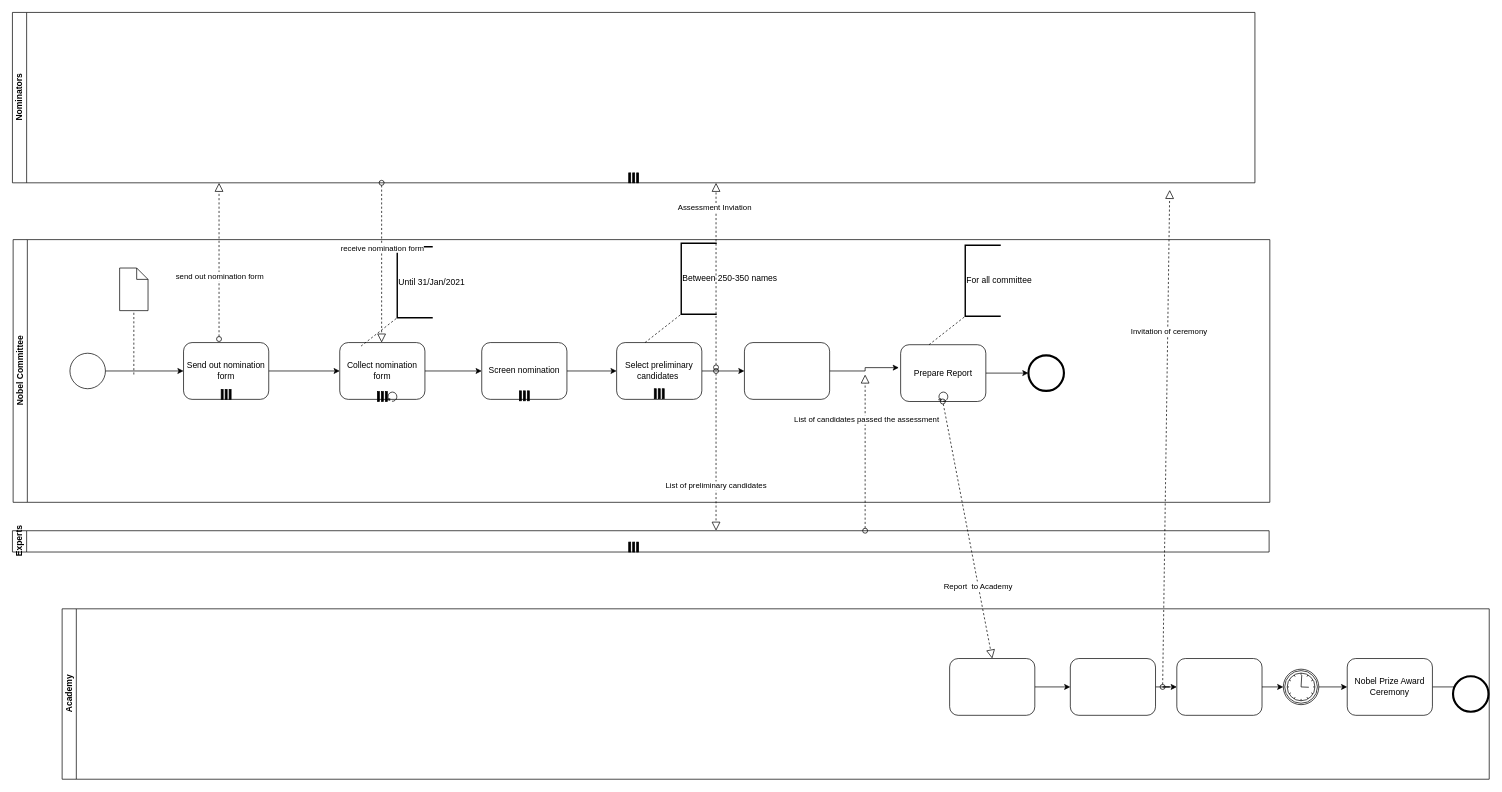
This 1502x792 diagram has some shape labels left out. Here are the shapes that lost their labels. From the top down, the centre of each, then its label:
At (x=133, y=289): "form".
At (x=787, y=370): "Prepare Assessment".
At (x=992, y=686): "Meetings".
At (x=1113, y=686): "Select Nobel laureates".
At (x=1219, y=686): "Announce Nobel laureates".
At (x=1301, y=686): "Until 10 Dec".
